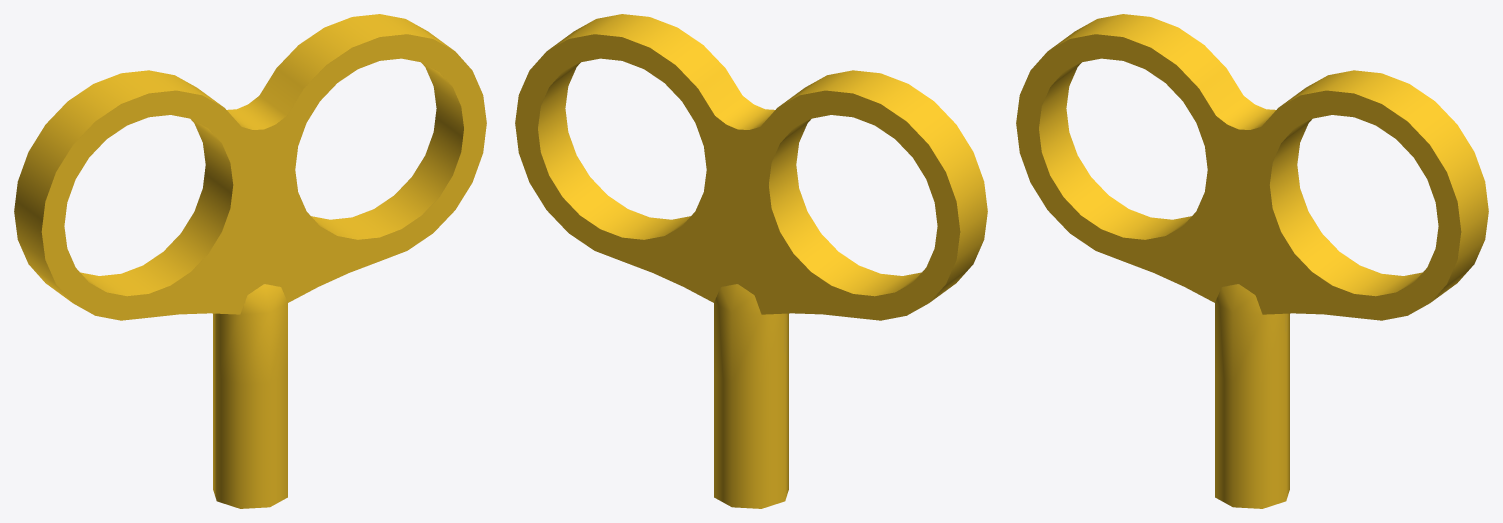
File: windkey.obj
3 views of the same model, side by side, from view 1: azimuth 30°, elevation 25°; view 2: azimuth 150°, elevation 25°; view 3: azimuth 330°, elevation 25° (orthographic).
Visible parts, largest first — view 1: Cylinder.001; view 2: Cylinder.001; view 3: Cylinder.001.
Part boxes in pixels (left/top/right/bottom): Cylinder.001: left=14, top=14, right=486, bottom=508; Cylinder.001: left=515, top=14, right=987, bottom=508; Cylinder.001: left=1016, top=14, right=1488, bottom=508.
Size of the model in its own units: 0.5274 by 0.498 by 0.08.
1 material, 1 textured.
